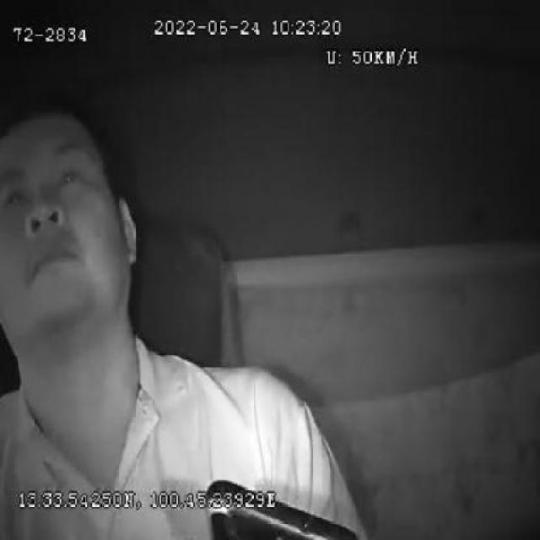phone: (196, 466, 369, 540)
